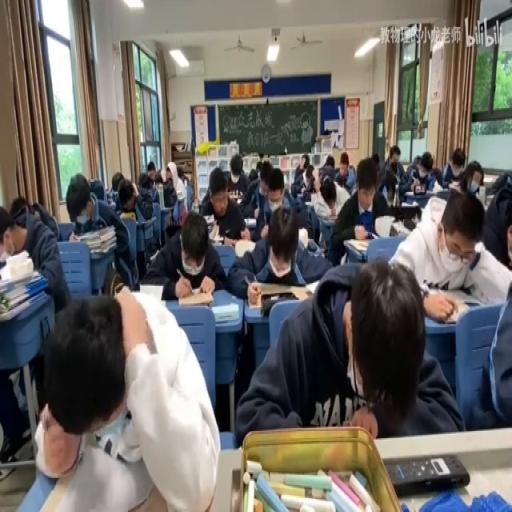calculator: (42, 439, 153, 512), (429, 286, 485, 320), (246, 282, 310, 310), (0, 287, 46, 319), (0, 266, 40, 294), (176, 288, 214, 306), (212, 300, 238, 322), (138, 282, 163, 298), (233, 238, 254, 256), (345, 238, 370, 253), (302, 279, 325, 294), (208, 223, 224, 243), (222, 232, 240, 246), (399, 202, 421, 213), (137, 215, 155, 226), (120, 209, 136, 221), (202, 213, 214, 225), (243, 215, 256, 226), (448, 181, 461, 192), (0, 252, 9, 266), (149, 248, 159, 260), (323, 213, 336, 222), (106, 196, 116, 206), (304, 198, 316, 206), (301, 186, 307, 196), (155, 181, 165, 186)
paper: (237, 256, 461, 442), (1, 196, 67, 460), (390, 186, 510, 312), (225, 202, 331, 296), (66, 172, 133, 293), (142, 206, 224, 299), (468, 277, 510, 431), (371, 169, 416, 233), (120, 174, 154, 248), (310, 174, 348, 240), (402, 150, 437, 196), (28, 199, 60, 242), (224, 152, 250, 198), (440, 145, 467, 188), (154, 165, 178, 206), (382, 142, 404, 182), (332, 149, 354, 188), (484, 169, 511, 199), (0, 205, 14, 256), (290, 156, 308, 194), (110, 171, 126, 203), (10, 195, 28, 222), (88, 176, 105, 202), (286, 189, 304, 212), (466, 160, 482, 184), (176, 165, 187, 186), (387, 178, 398, 199), (138, 172, 150, 191), (430, 166, 442, 185), (310, 168, 318, 192), (248, 168, 258, 183), (149, 186, 158, 202), (324, 155, 334, 169), (420, 158, 430, 171), (131, 180, 138, 198), (146, 162, 155, 175), (372, 151, 378, 168), (256, 158, 262, 173), (414, 155, 422, 164), (302, 158, 307, 169)
person: (386, 452, 470, 495), (412, 182, 426, 195), (402, 218, 416, 230), (364, 230, 375, 238)
